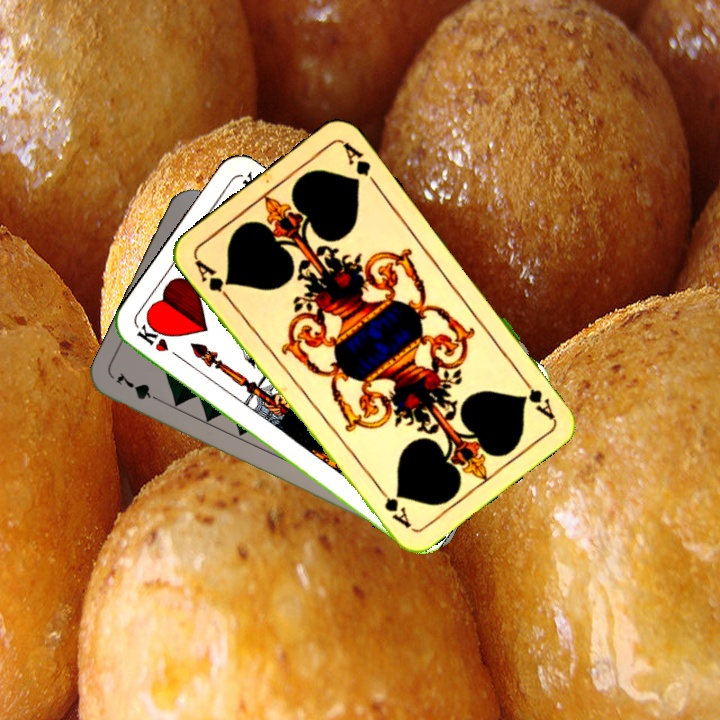G7: (111, 368, 167, 406)
GA: (190, 254, 234, 304), (515, 370, 557, 422)
HK: (132, 319, 186, 363)
